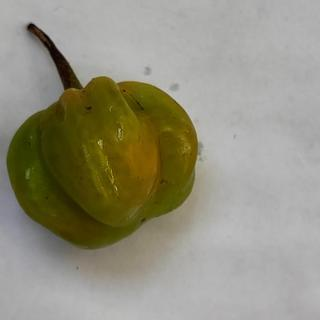Fly-bites: (82, 102, 98, 115), (137, 215, 150, 228)
striped: (126, 91, 148, 114)
